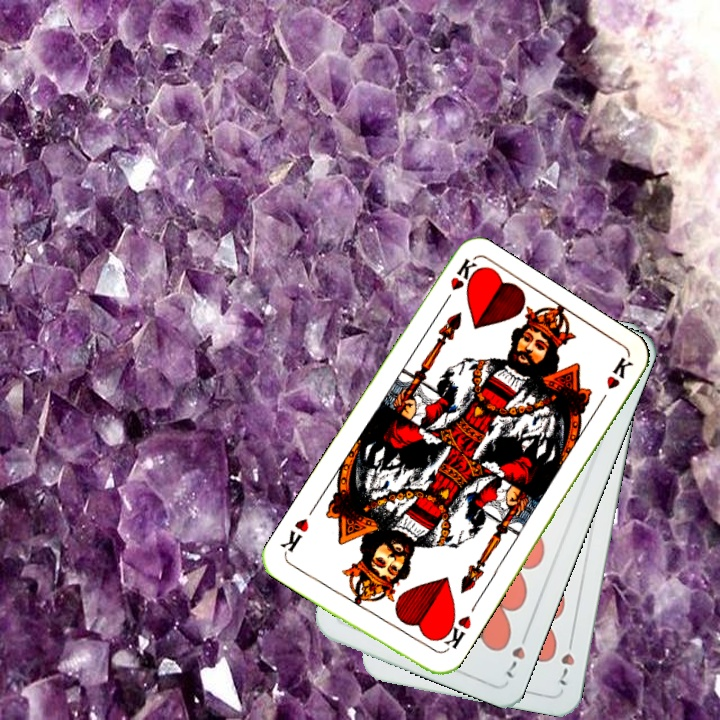H7: (502, 626, 531, 681), (552, 632, 577, 688)
HK: (437, 255, 482, 311), (434, 610, 474, 656)
